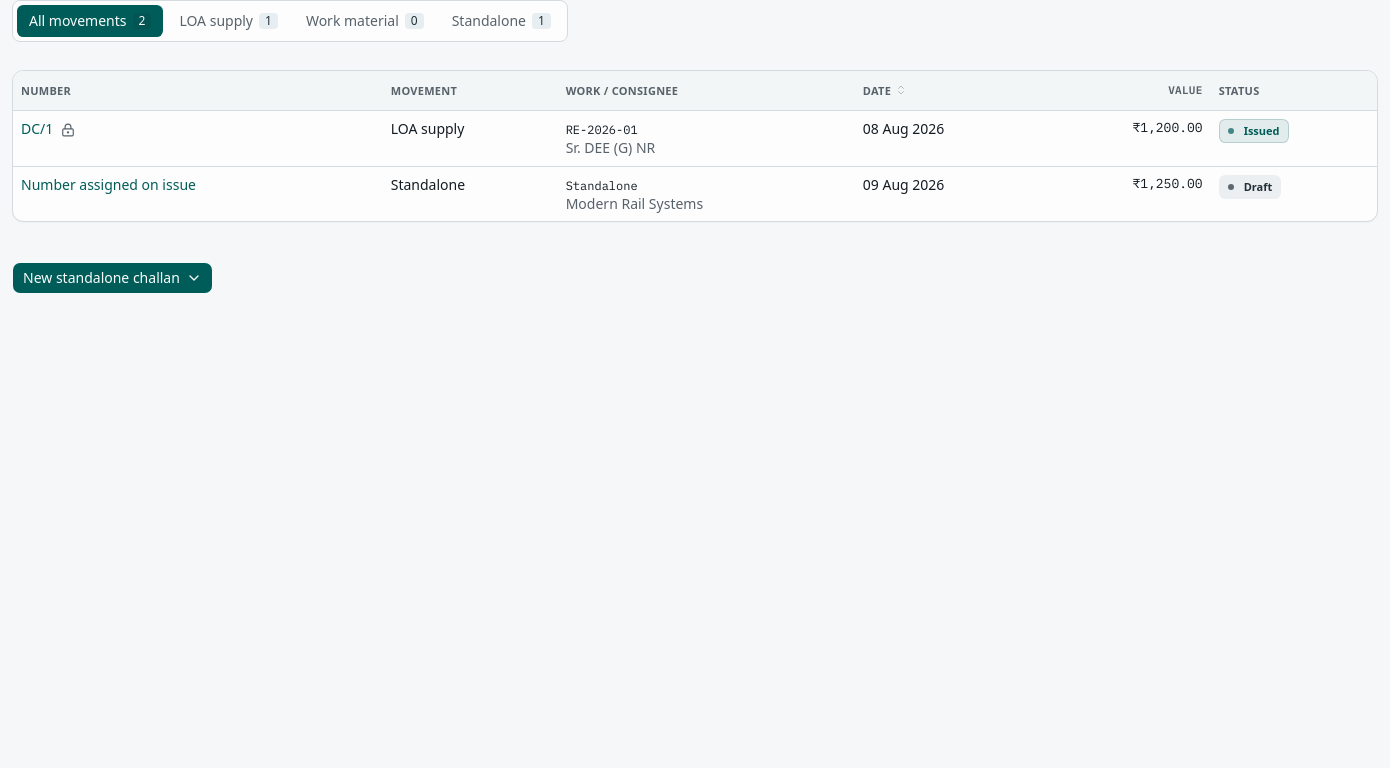
Test: the Delivery Challan register › says what is missing before spending a round trip
Expected: the link "DC/1" is shown, [21, 119, 53, 138]
Step 1. Click the button "New standalone challan" → (112, 278), box [12, 262, 213, 294]
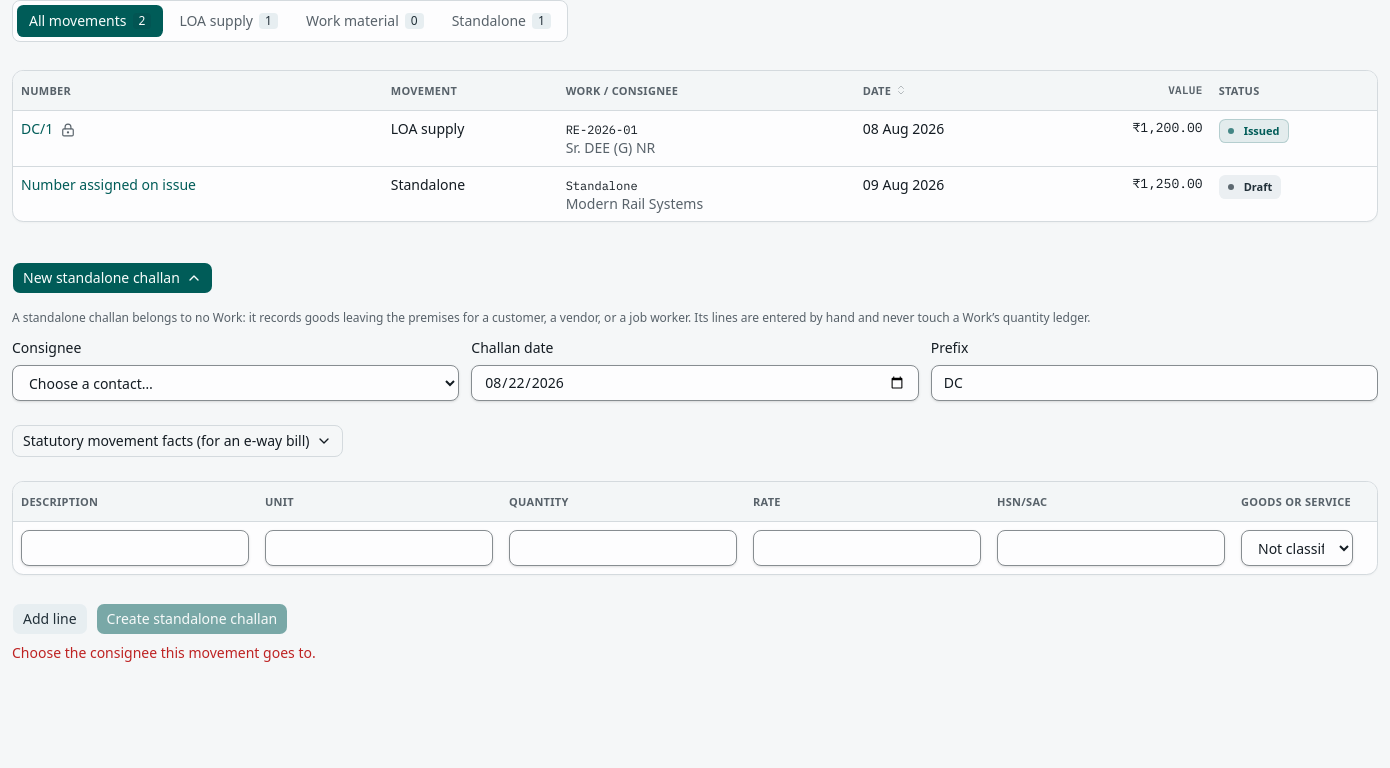
Result: the button "Create standalone challan" is disabled at [96, 603, 288, 635]
Result: the text "Choose the consignee this movement goes to." is shown at [12, 643, 316, 662]
